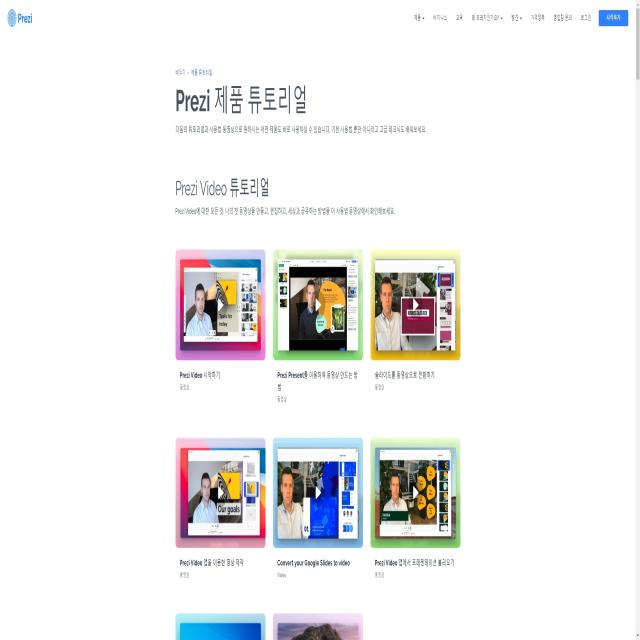menu-bar: (412, 2, 630, 34)
